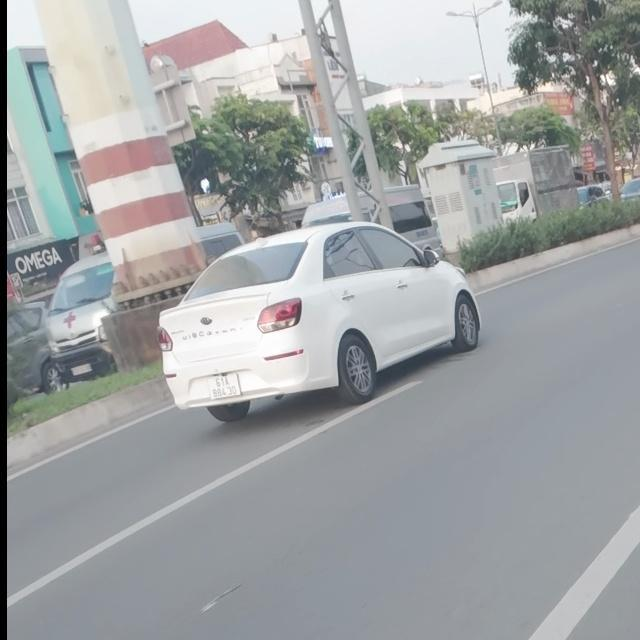car: (157, 219, 485, 428), (46, 247, 119, 387)
plate: (204, 370, 243, 403)
